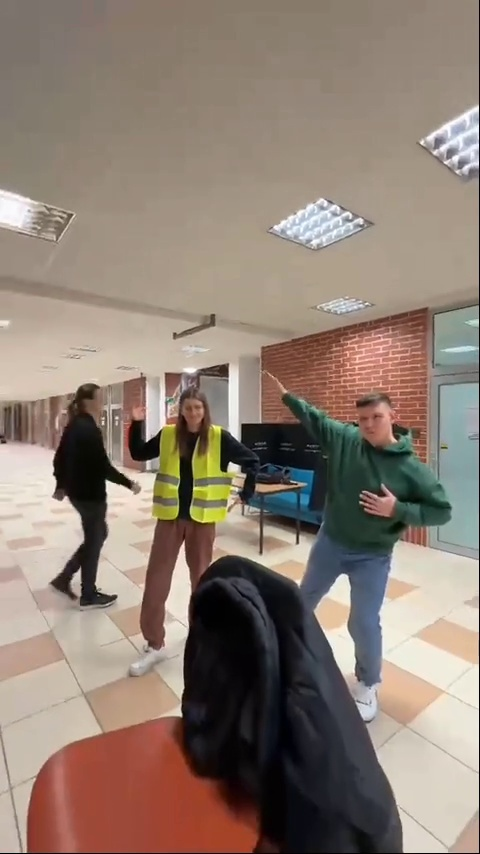no vest: (281, 371, 461, 700), (49, 376, 143, 605)
vest: (144, 392, 262, 661)
